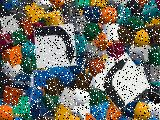Right: (94, 53, 150, 111), (34, 24, 76, 68)
